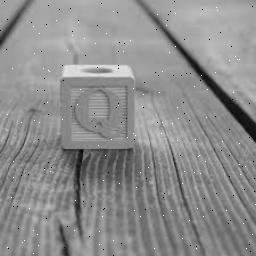q: (70, 84, 128, 140)
